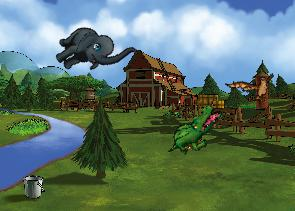crocodile: (166, 96, 223, 165)
eagle: (225, 60, 283, 114)
elephant: (48, 7, 137, 93)
